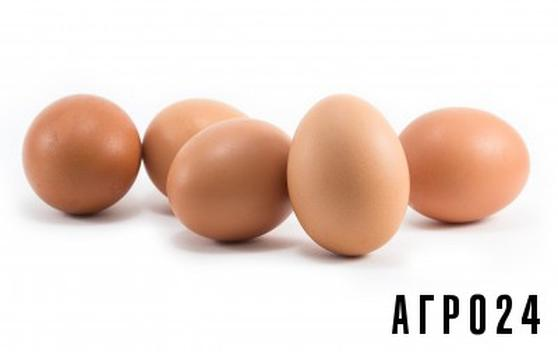egg: (292, 89, 409, 257), (23, 92, 144, 218)
